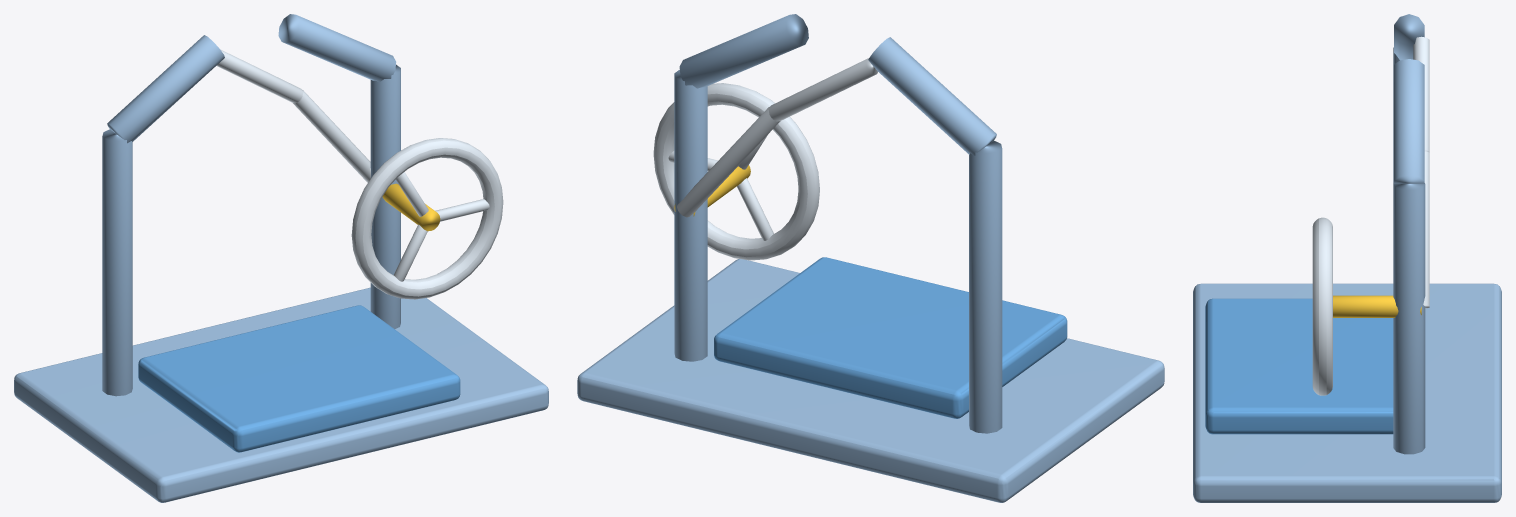
File: pcv_reset_checkpoint_crank.glb
The picture shows the model from 3 angles, left to right: view 1: azimuth 30°, elevation 25°; view 2: azimuth 150°, elevation 25°; view 3: azimuth 270°, elevation 25°; orthographic projection. The views are drawn at different scales.
Parts seen in each view (by area): view 1: pcv_reset_checkpoint_crank_MOBILE_JOINED; view 2: pcv_reset_checkpoint_crank_MOBILE_JOINED; view 3: pcv_reset_checkpoint_crank_MOBILE_JOINED.
Boxes of the visible parts, left/top/right/bottom form: pcv_reset_checkpoint_crank_MOBILE_JOINED: left=14, top=14, right=548, bottom=502; pcv_reset_checkpoint_crank_MOBILE_JOINED: left=577, top=14, right=1164, bottom=502; pcv_reset_checkpoint_crank_MOBILE_JOINED: left=1193, top=14, right=1501, bottom=502.
Bounding box in the file's own units: 1.96 × 1.65 × 1.25.
